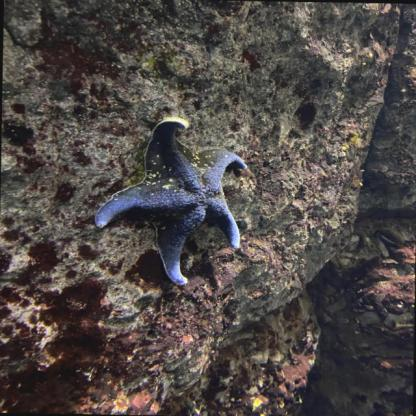starfish: (93, 116, 248, 286)
